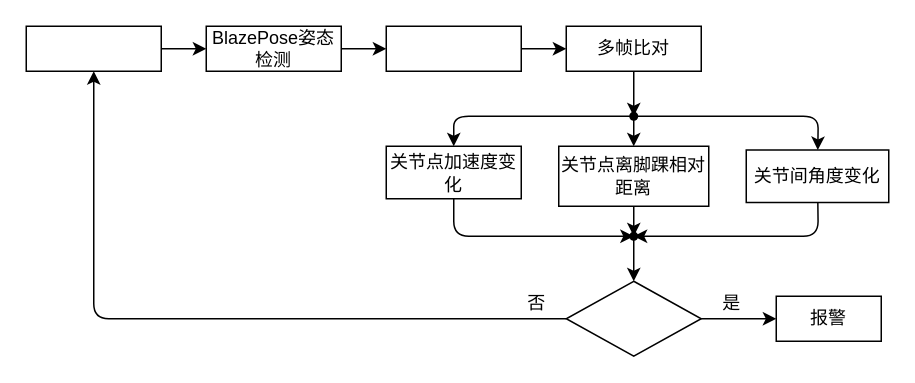
Some shapes in this 915 by 383 pixel diagram are drawn without their labels. The shapes that lost their labels are listed below. From the top down, each one's centre as x and y in pixels, then its label:
At (93,48): "相机采集视频帧".
At (453,48): "人体关键点提取".
At (633,318): "是否跌倒".
